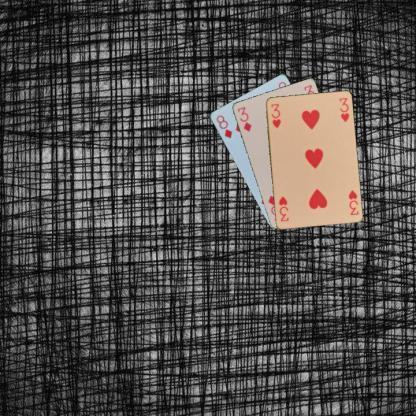3d: (234, 104, 252, 133)
3h: (346, 187, 360, 216), (268, 101, 282, 129)
8d: (214, 112, 234, 140)
